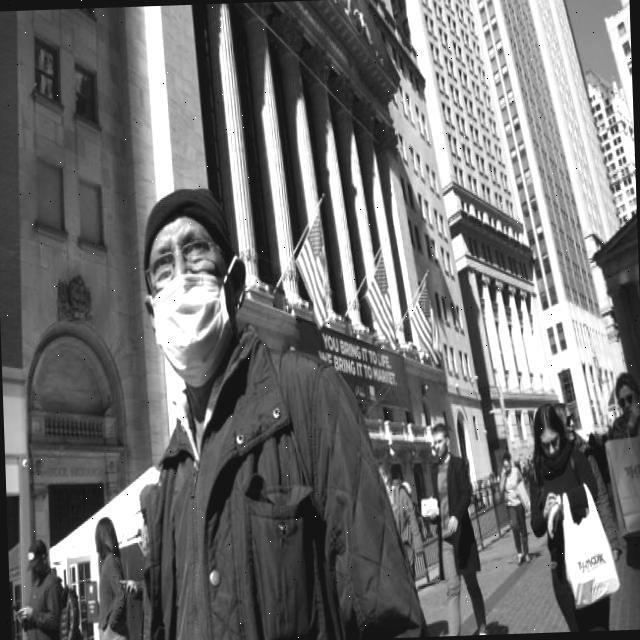mask: (145, 274, 233, 379)
no_gloves: (141, 192, 236, 256)
